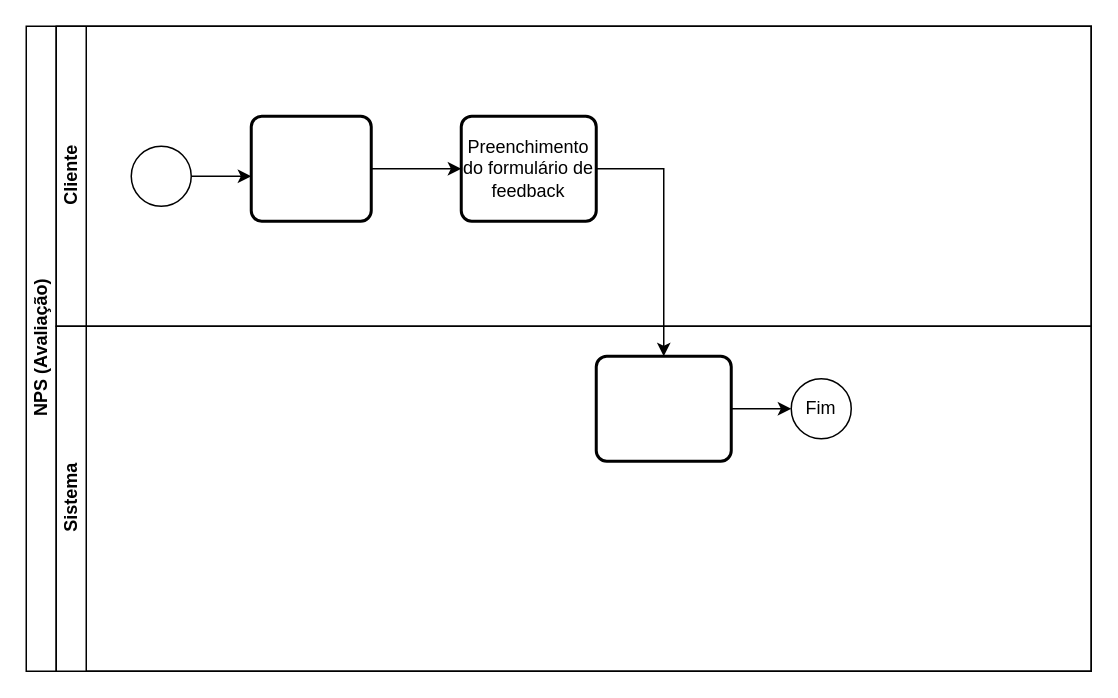
This 1118x698 diagram has some shape labels left out. Here are the shapes that lost their labels. From the top down, the centre of each, then its label:
[310,168]: Seleciona a opção de feedback
[663,408]: Feedback é recebido e armazenado pela empresa
